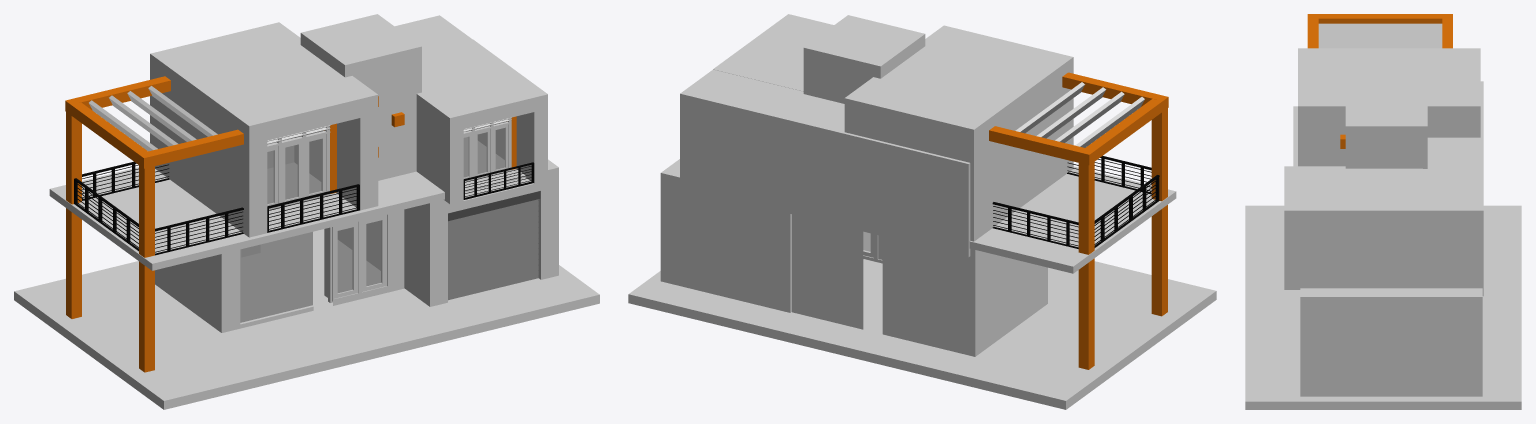
The model's file is house.glb.
The picture shows the model from 3 angles, left to right: view 1: azimuth 30°, elevation 25°; view 2: azimuth 150°, elevation 25°; view 3: azimuth 270°, elevation 25°; orthographic projection. The views are drawn at different scales.
Visible parts, largest first — view 1: Cube.008, MainRoom, MainRoom.002, Cube.007, Cube.028, Cube.003, MainRoom.001, Cube.001, Plane, Cube.026, Fence, Fence.002 (+32 smaller); view 2: Cube.026, Cube.008, MainRoom, Cube.001, MainRoom.001, Cube.028, Cube.007, Cube.003, MainRoom.002, Fence.004, Fence.003, Fence.002 (+4 smaller); view 3: Cube.008, MainRoom.001, MainRoom.002, MainRoom, Cube.026, Cube.003, Cube.028, Cube.027, Cube.029, Cube.030, Cube.007.
Part boxes in pixels (x1,y1,x2,y2): Cube.008: (14,229,599,409); MainRoom: (150,22,378,237); MainRoom.002: (416,39,547,204); Cube.007: (49,163,444,270); Cube.028: (65,76,243,372); Cube.003: (300,14,421,180); MainRoom.001: (338,131,558,306); Cube.001: (155,209,404,332); Plane: (240,232,312,322); Cube.026: (267,15,471,168); Fence: (267,184,359,232); Fence.002: (155,207,243,255); Cube.026: (680,69,970,257); Cube.008: (628,259,1216,409); MainRoom: (844,25,1073,241); Cube.001: (792,214,1047,356); MainRoom.001: (660,159,870,312); Cube.028: (989,72,1168,369); Cube.007: (969,166,1176,273); Cube.003: (803,15,925,103); MainRoom.002: (713,14,833,91); Fence.004: (992,202,1078,248); Fence.003: (1094,175,1159,247); Fence.002: (1067,156,1151,194); Cube.008: (1245,205,1521,409); MainRoom.001: (1300,288,1482,396); MainRoom.002: (1284,166,1422,289); MainRoom: (1298,48,1480,166); Cube.026: (1423,81,1483,296); Cube.003: (1345,91,1427,168); Cube.028: (1307,14,1452,48); Cube.027: (1318,23,1442,32); Cube.029: (1318,33,1442,40); Cube.030: (1318,41,1442,48); Cube.007: (1293,106,1297,166).
Size of what is drawn, in the model's own units: 86.09 by 46.69 by 51.27.
